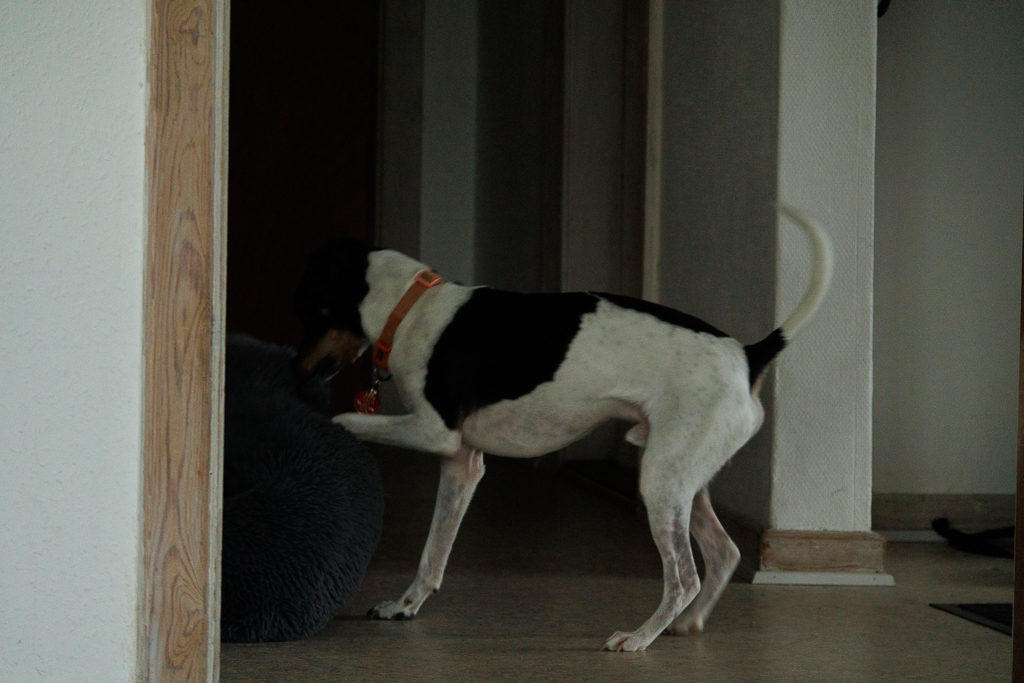Dog: (263, 193, 850, 658)
